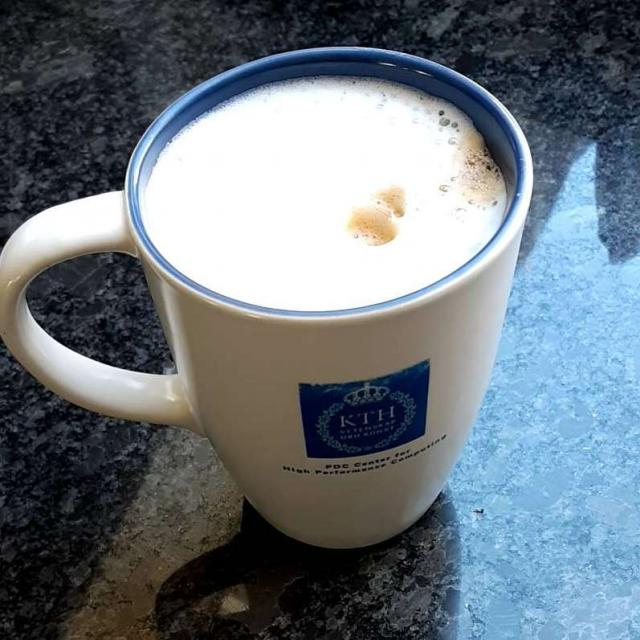cappuccino: (146, 83, 501, 310)
